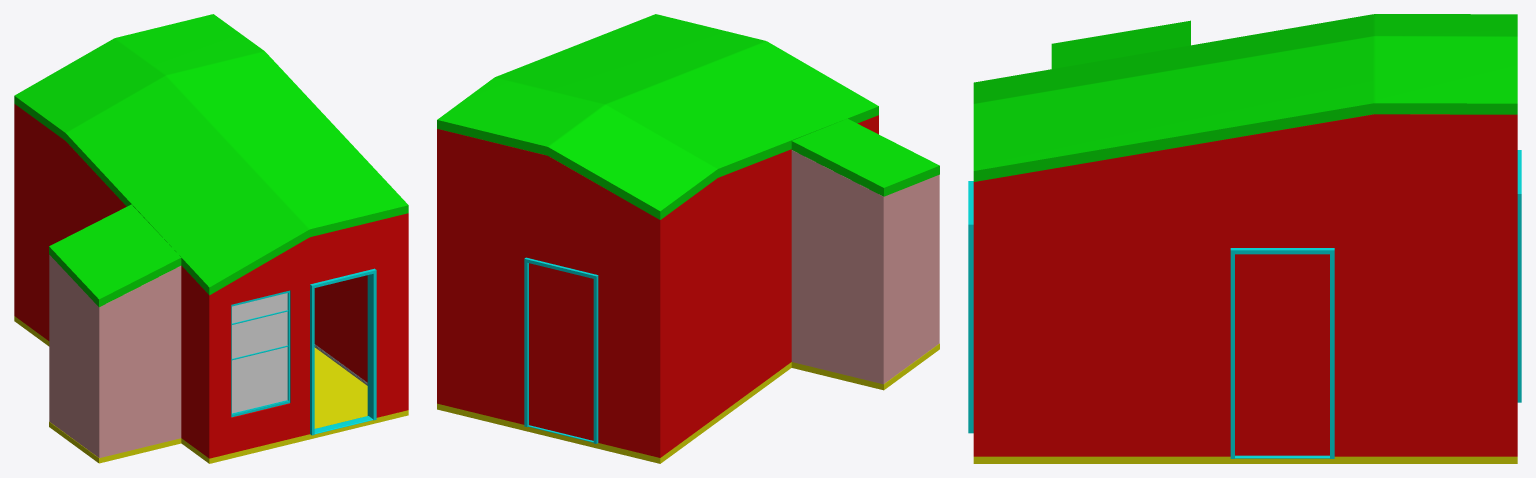
File: FloorPlan529_physics.fbx
3 views of the same model, side by side, from view 1: azimuth 30°, elevation 25°; view 2: azimuth 150°, elevation 25°; view 3: azimuth 270°, elevation 25° (orthographic). The views are drawn at different scales.
Parts seen in each view (by area): view 1: FP529:Ceiling_1, Walls, FP529:Walls_2, FP529:Ceiling_2, FP529:WindowPane_1, FP529:Floor_1, FP529:DoorFrame_1, FP529:WindowFrame_1, FP529:Floor_2; view 2: Walls, FP529:Ceiling_1, FP529:Walls_2, FP529:Ceiling_2, FP529:Floor_1, FP529:DoorFrame_3, FP529:Floor_2; view 3: Walls, FP529:Ceiling_1, FP529:Floor_1, FP529:Ceiling_2, FP529:DoorFrame_2, FP529:DoorFrame_1, FP529:DoorFrame_3.
Part boxes in pixels (x1,y1,x2,y2): FP529:Ceiling_1: (14, 14, 408, 295); Walls: (14, 104, 408, 458); FP529:Walls_2: (49, 255, 181, 457); FP529:Ceiling_2: (49, 204, 181, 307); FP529:WindowPane_1: (232, 293, 287, 413); FP529:Floor_1: (14, 316, 408, 463); FP529:DoorFrame_1: (310, 268, 376, 435); FP529:WindowFrame_1: (231, 290, 290, 417); FP529:Floor_2: (49, 421, 181, 463); Walls: (437, 115, 878, 457); FP529:Ceiling_1: (437, 14, 878, 219); FP529:Walls_2: (791, 150, 939, 384); FP529:Ceiling_2: (791, 118, 939, 196); FP529:Floor_1: (437, 362, 791, 463); FP529:DoorFrame_3: (524, 257, 598, 443); FP529:Floor_2: (791, 343, 939, 390); Walls: (973, 114, 1517, 456); FP529:Ceiling_1: (973, 14, 1517, 181); FP529:Floor_1: (973, 456, 1517, 463); FP529:Ceiling_2: (1051, 20, 1190, 68); FP529:DoorFrame_2: (1230, 248, 1334, 458); FP529:DoorFrame_1: (968, 181, 973, 433); FP529:DoorFrame_3: (1517, 150, 1521, 402).
Size of the model in its own units: 411 by 356 by 495.
